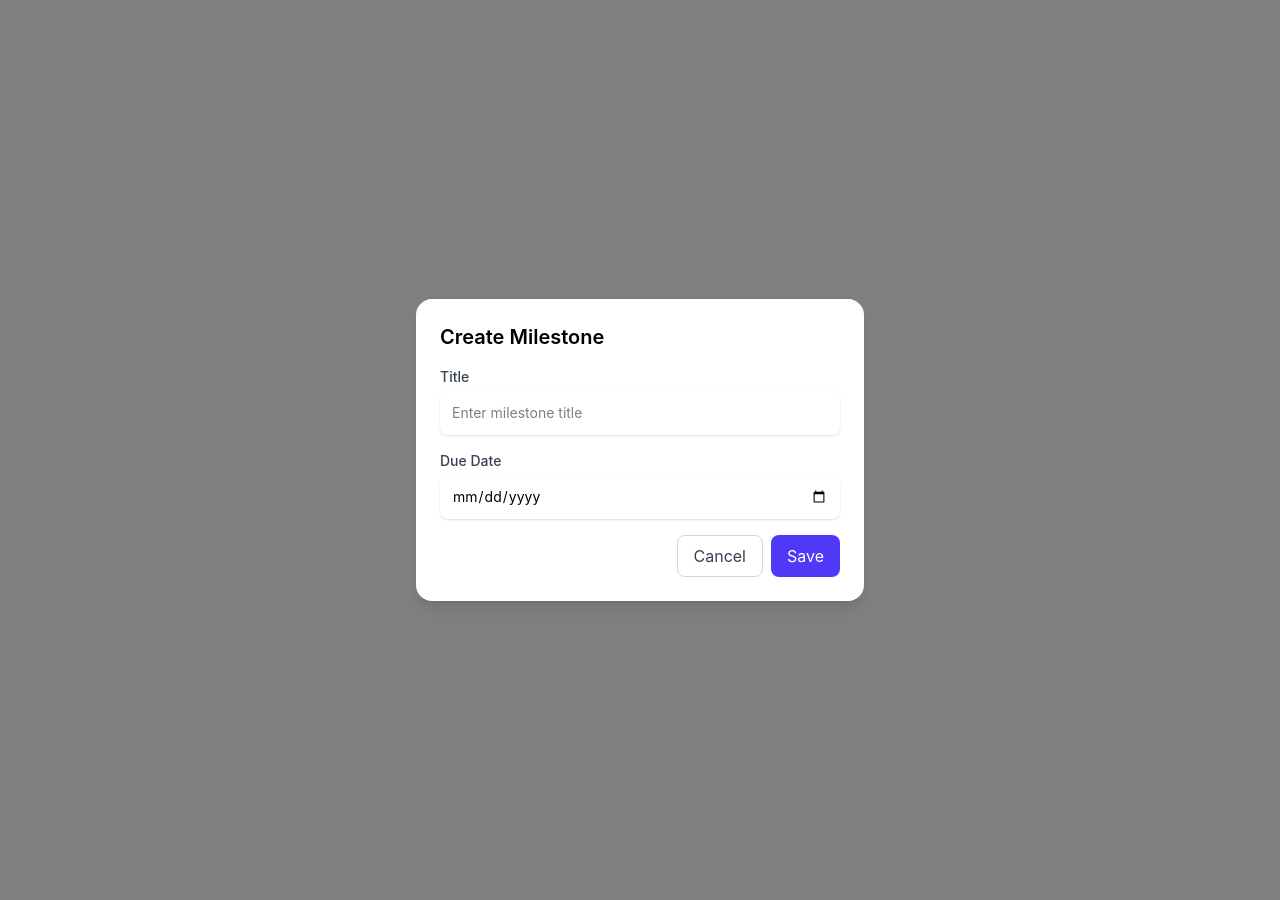
Test: UpsertMilestoneModal › validates due date field is required
Step 1. Type "Test Milestone" into the field labelled "Title" → [640, 413], box top-left (440, 391), bottom-right (840, 435)
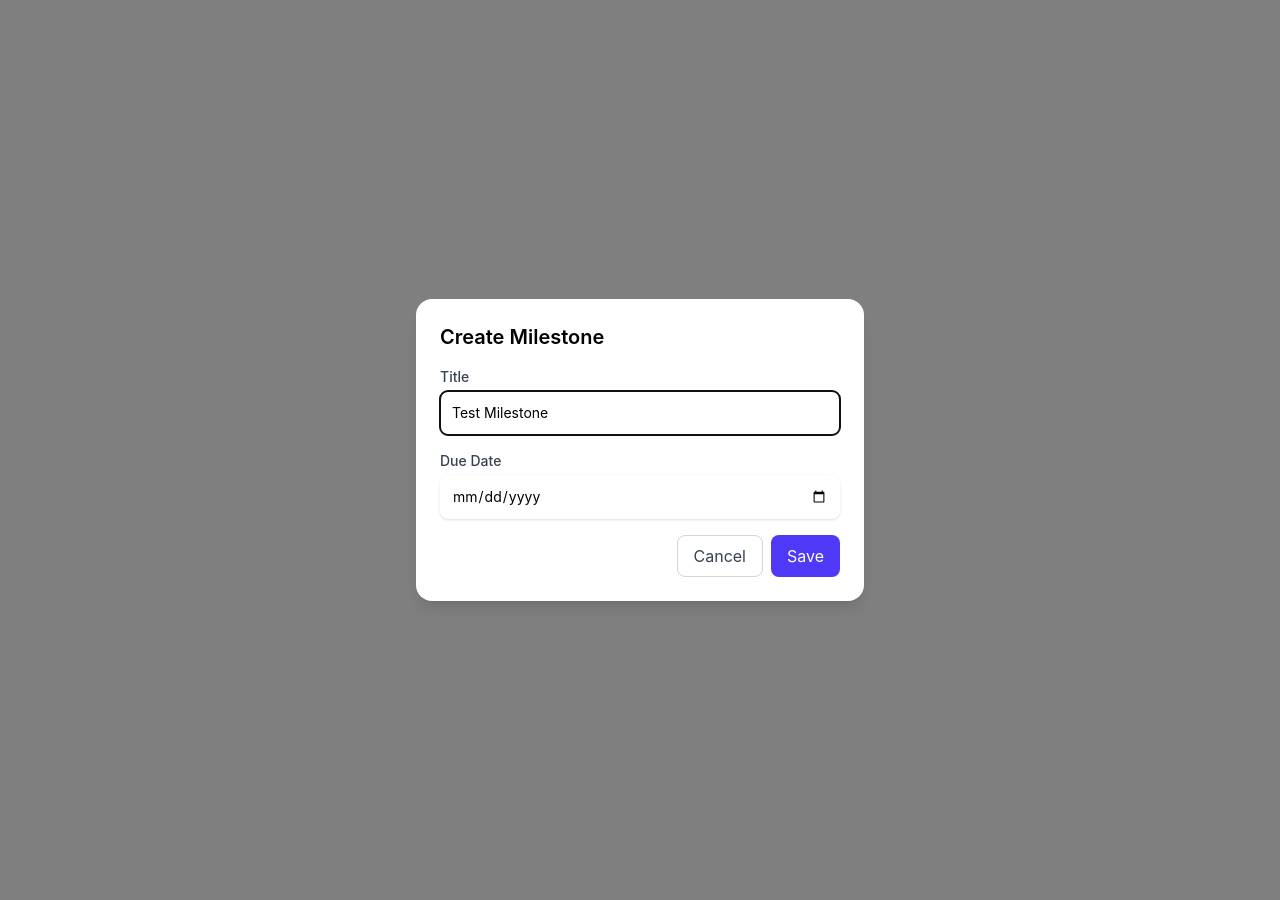
Step 2. Click the button "Save" → [806, 556], box top-left (771, 535), bottom-right (840, 577)
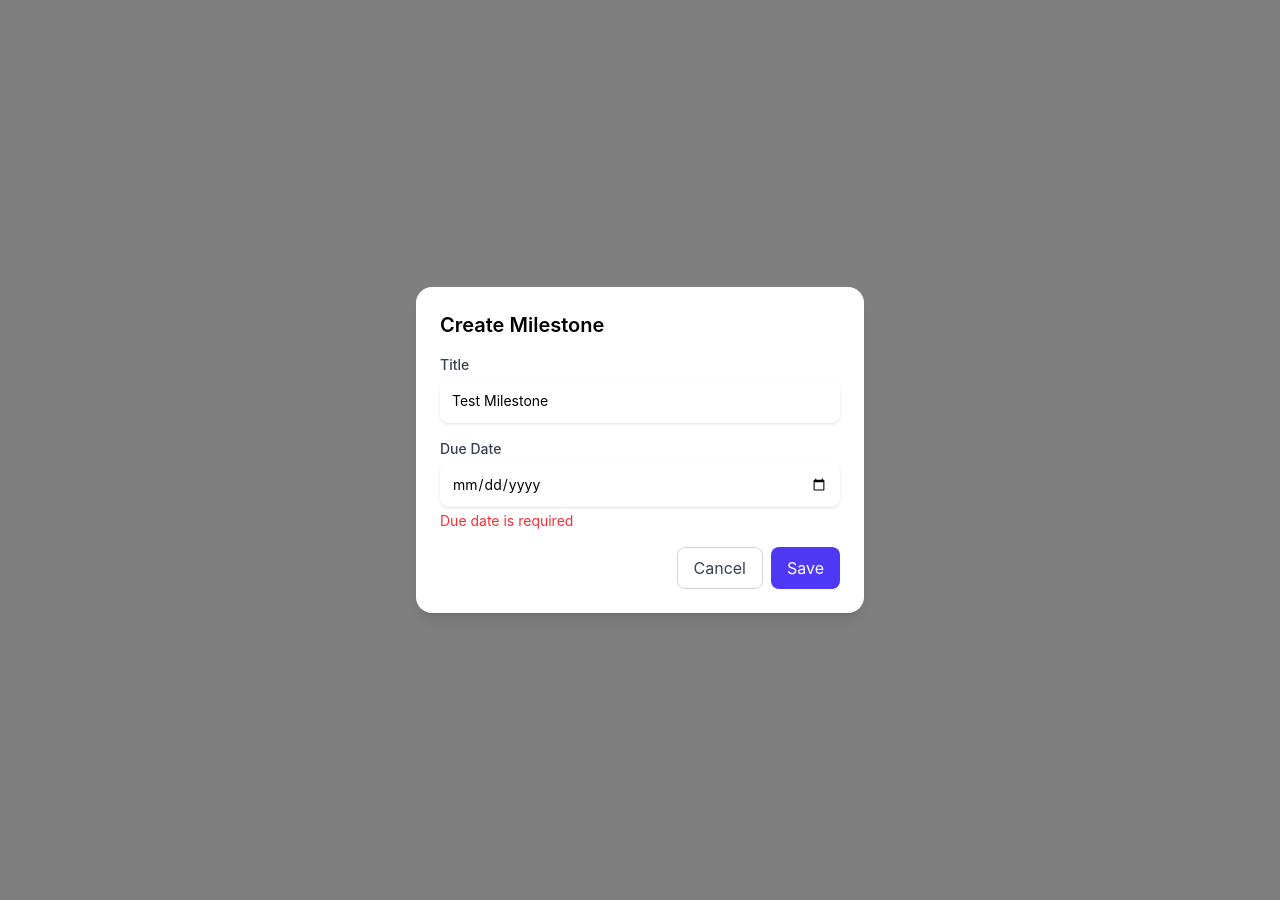
Check: the text "Due date is required" is shown, box top-left (440, 512), bottom-right (573, 529)
